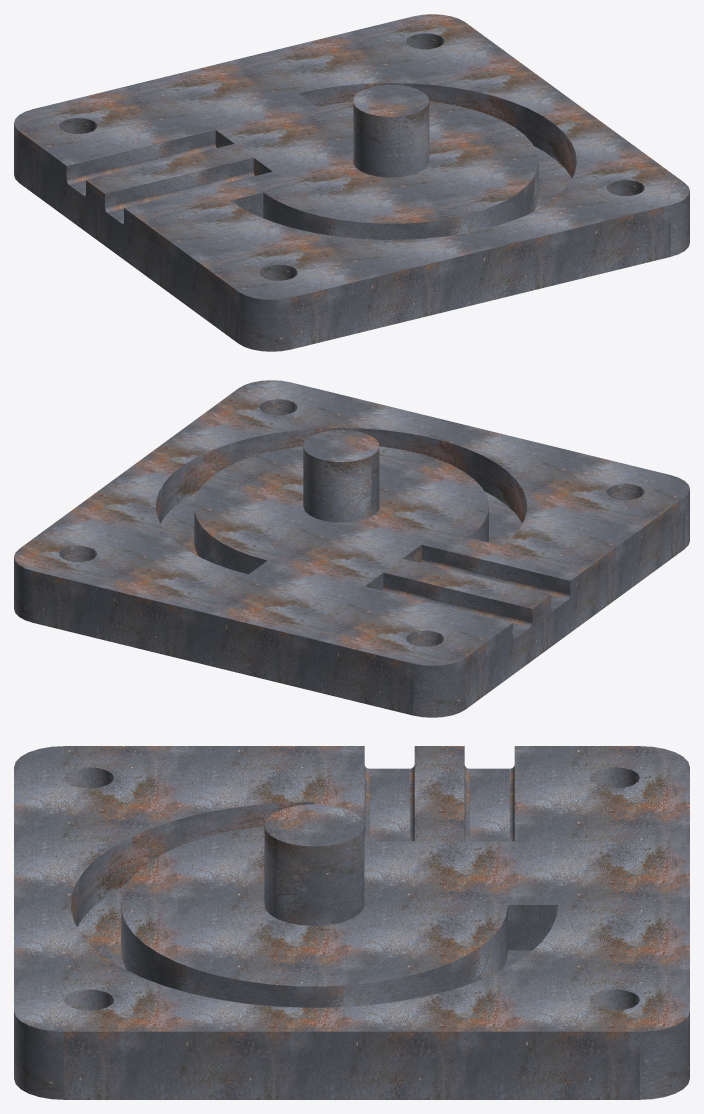
The picture shows the model from 3 angles, top to bottom: view 1: azimuth 30°, elevation 25°; view 2: azimuth 150°, elevation 25°; view 3: azimuth 270°, elevation 25°; orthographic projection. The views are drawn at different scales.
Parts seen in each view (by area): view 1: Base; view 2: Base; view 3: Base.
Part boxes in pixels (x1,y1,x2,y2): Base: (14, 14, 689, 351); Base: (14, 380, 689, 717); Base: (14, 746, 689, 1099).
Size of the model in its own units: 270 by 65 by 270.
Materials: 1 (1 with a texture image).
